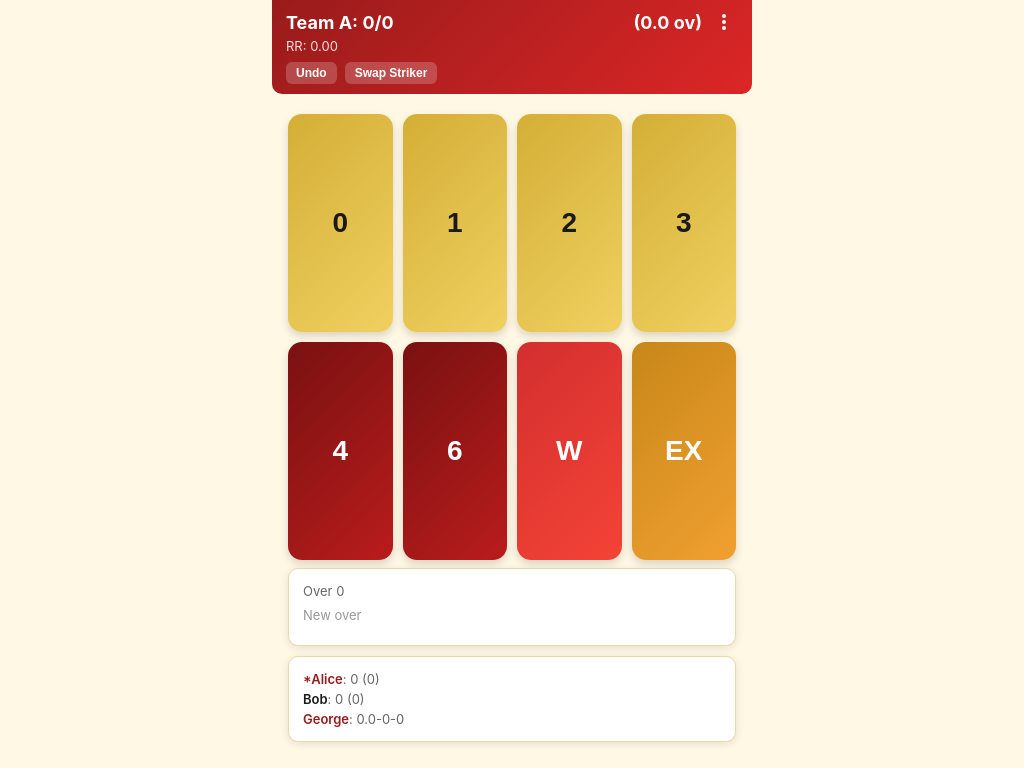
Test: ScoringV2 - scoring core › records a wide as an extra run without a legal ball
Click the button "EX": (684,451) top-left (632, 342), bottom-right (736, 560)
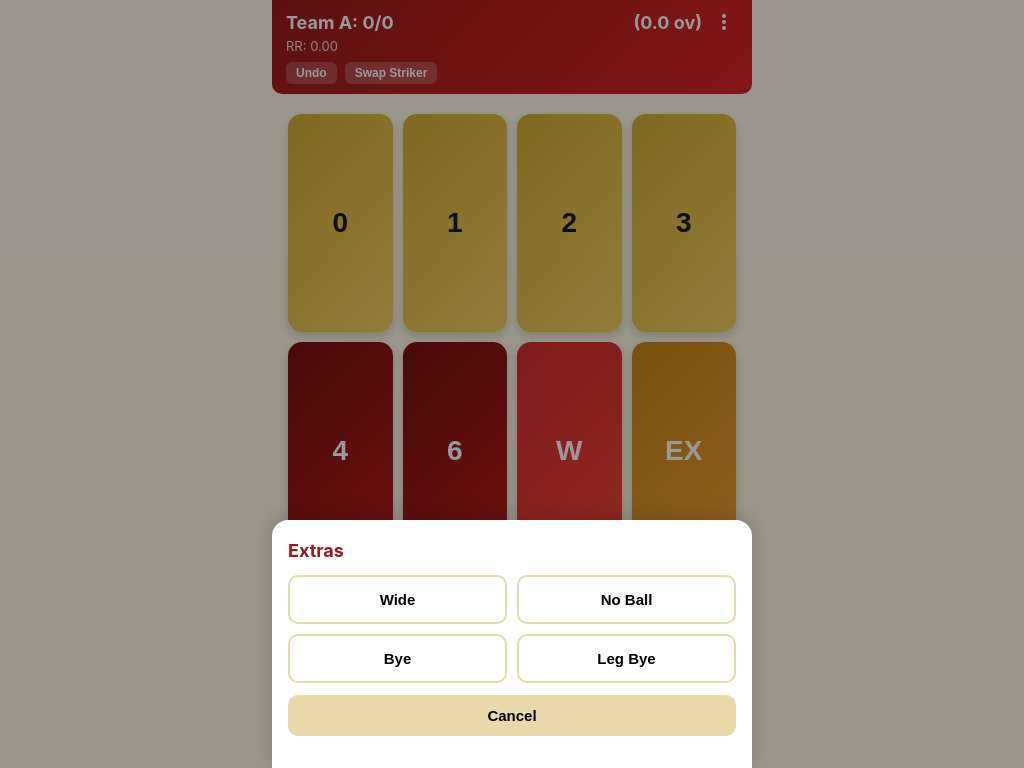
Click the button "Wide": (398,600) top-left (288, 575), bottom-right (507, 624)
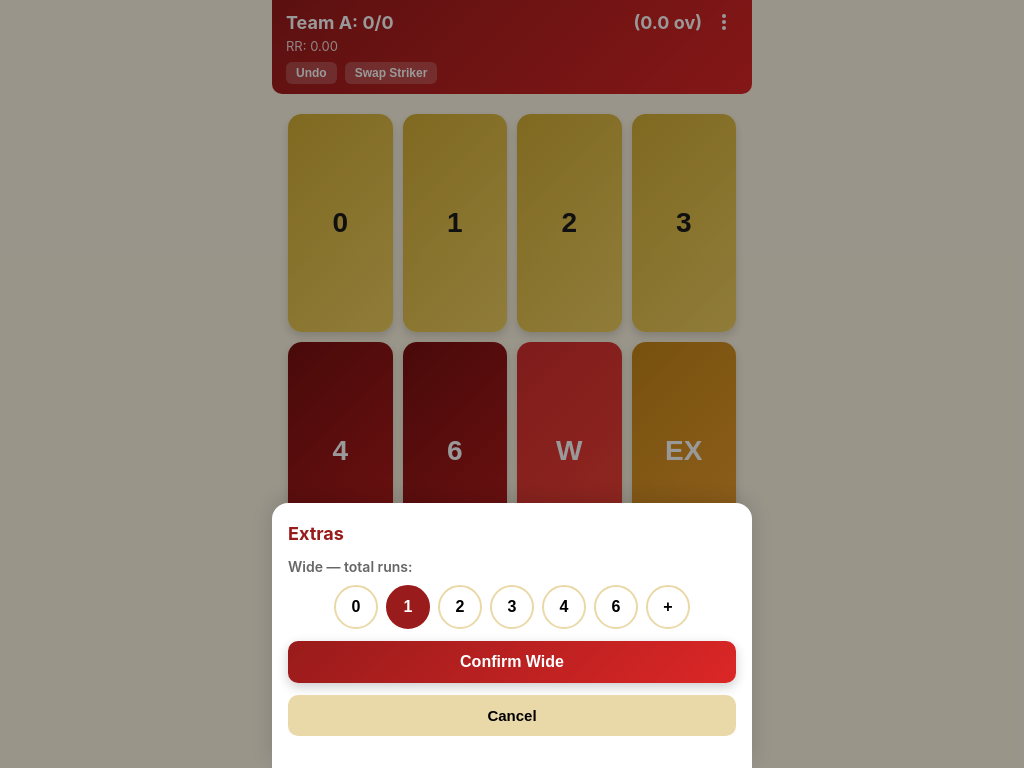
Click the button "Confirm Wide": (512,662) top-left (288, 641), bottom-right (736, 683)
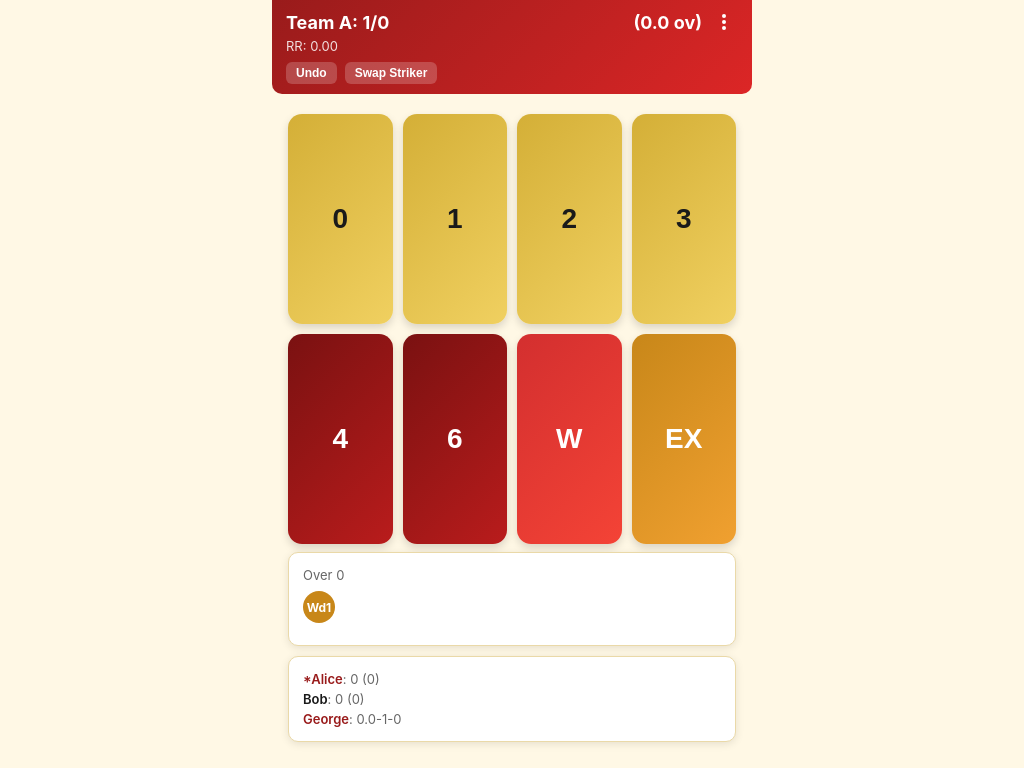
Check: the text "Team A: 1/0" is shown, box top-left (286, 12), bottom-right (389, 32)
